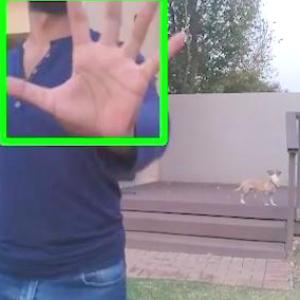follow_hand: (1, 0, 200, 143)
